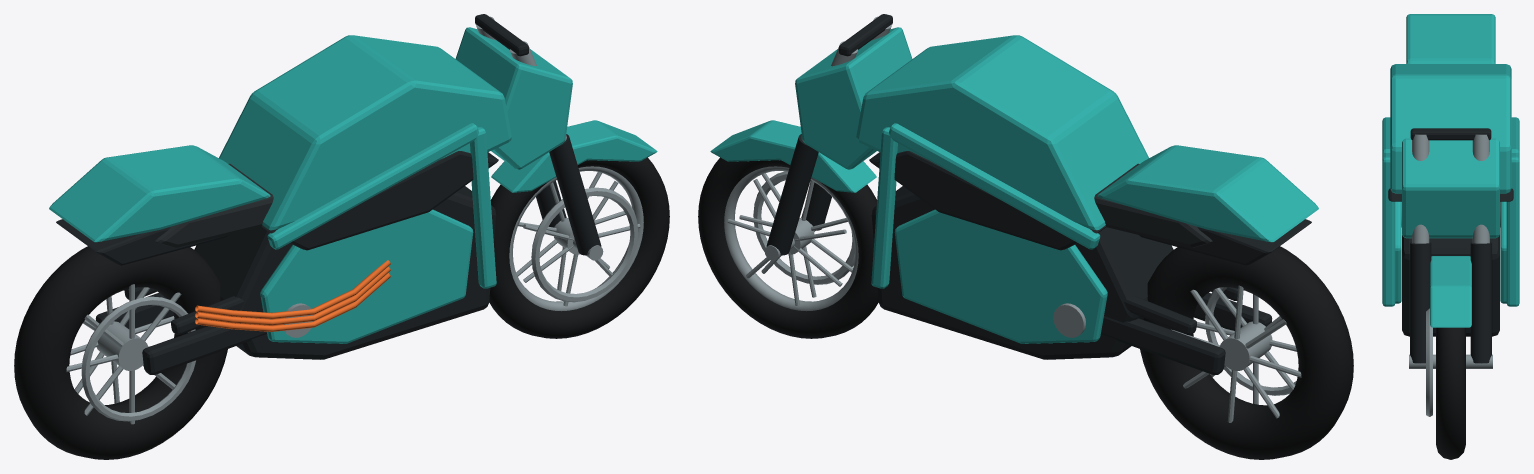
The model's file is motorcycle.glb.
3 renders of one model, left to right at view 1: azimuth 30°, elevation 25°; view 2: azimuth 150°, elevation 25°; view 3: azimuth 270°, elevation 25°, orthographic. The views are drawn at different scales.
Visible parts, largest first — view 1: upper_body_shell, rear_tire, body_panel_left, tail_section, front_tire, battery_enclosure, headlight_cowl, body_waist, front_fender, frame_rail_left, orange_cables, swingarm_left (+11 smaller); view 2: upper_body_shell, rear_tire, body_panel_right, tail_section, front_tire, battery_enclosure, headlight_cowl, body_waist, front_fender, frame_rail_right, swingarm_right, front_rim (+12 smaller); view 3: upper_body_shell, headlight_cowl, tail_section, front_tire, front_fender, front_fork_right_lower, battery_enclosure, front_fork_left_lower, frame_downtube_left, frame_downtube_right, triple_clamp_upper, body_panel_left (+8 smaller).
Boxes of the visible parts, x1=… form: upper_body_shell: x1=219, y1=35, x2=511, y2=230; rear_tire: x1=14, y1=246, x2=227, y2=459; body_panel_left: x1=260, y1=209, x2=473, y2=343; tail_section: x1=49, y1=145, x2=270, y2=242; front_tire: x1=489, y1=157, x2=669, y2=338; battery_enclosure: x1=194, y1=186, x2=496, y2=359; headlight_cowl: x1=455, y1=27, x2=572, y2=169; body_waist: x1=261, y1=151, x2=498, y2=250; front_fender: x1=491, y1=120, x2=657, y2=192; frame_rail_left: x1=267, y1=123, x2=478, y2=249; orange_cables: x1=195, y1=260, x2=390, y2=331; swingarm_left: x1=142, y1=318, x2=266, y2=374; upper_body_shell: x1=856, y1=35, x2=1148, y2=230; rear_tire: x1=1140, y1=246, x2=1353, y2=459; body_panel_right: x1=894, y1=209, x2=1107, y2=343; tail_section: x1=1097, y1=145, x2=1318, y2=242; front_tire: x1=698, y1=157, x2=878, y2=338; battery_enclosure: x1=871, y1=186, x2=1173, y2=359; headlight_cowl: x1=795, y1=27, x2=912, y2=169; body_waist: x1=869, y1=151, x2=1106, y2=250; front_fender: x1=710, y1=120, x2=876, y2=192; frame_rail_right: x1=889, y1=123, x2=1100, y2=249; swingarm_right: x1=1101, y1=316, x2=1225, y2=374; front_rim: x1=724, y1=166, x2=858, y2=311; upper_body_shell: x1=1390, y1=64, x2=1511, y2=193; headlight_cowl: x1=1402, y1=138, x2=1499, y2=238; tail_section: x1=1406, y1=14, x2=1495, y2=63; front_tire: x1=1436, y1=327, x2=1465, y2=459; front_fender: x1=1430, y1=256, x2=1471, y2=327; front_fork_right_lower: x1=1470, y1=242, x2=1491, y2=363; battery_enclosure: x1=1402, y1=235, x2=1499, y2=336; front_fork_left_lower: x1=1410, y1=242, x2=1431, y2=363; frame_downtube_left: x1=1382, y1=156, x2=1395, y2=306; frame_downtube_right: x1=1506, y1=156, x2=1519, y2=306; triple_clamp_upper: x1=1410, y1=128, x2=1491, y2=140; body_panel_left: x1=1395, y1=201, x2=1401, y2=303.
Size of the model in its own units: 2.34 by 1.15 by 0.475.
